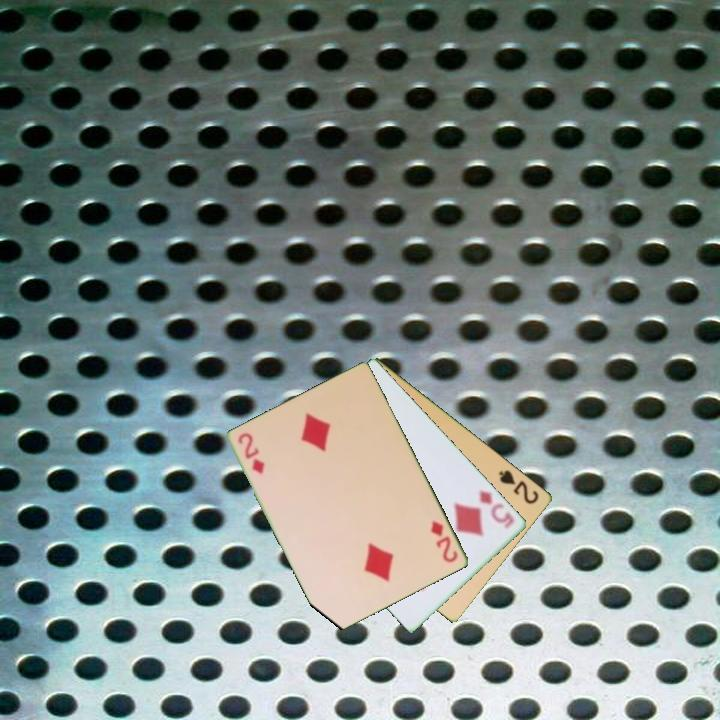2d: (428, 517, 461, 566), (235, 429, 268, 477)
2s: (495, 466, 542, 507)
5d: (476, 486, 517, 531)
